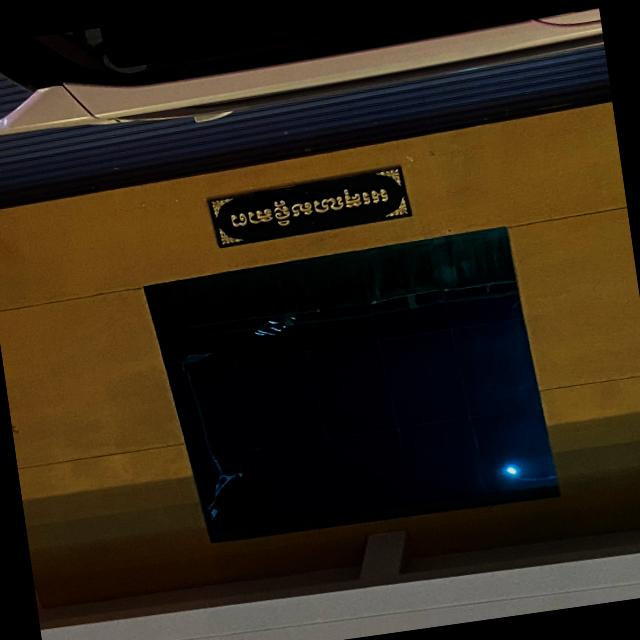Yolov11_80vkh: (218, 178, 396, 241)
